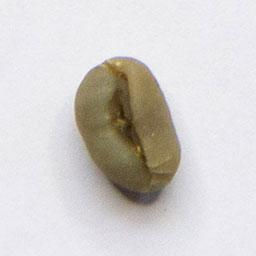peaberry: (70, 52, 184, 199)
